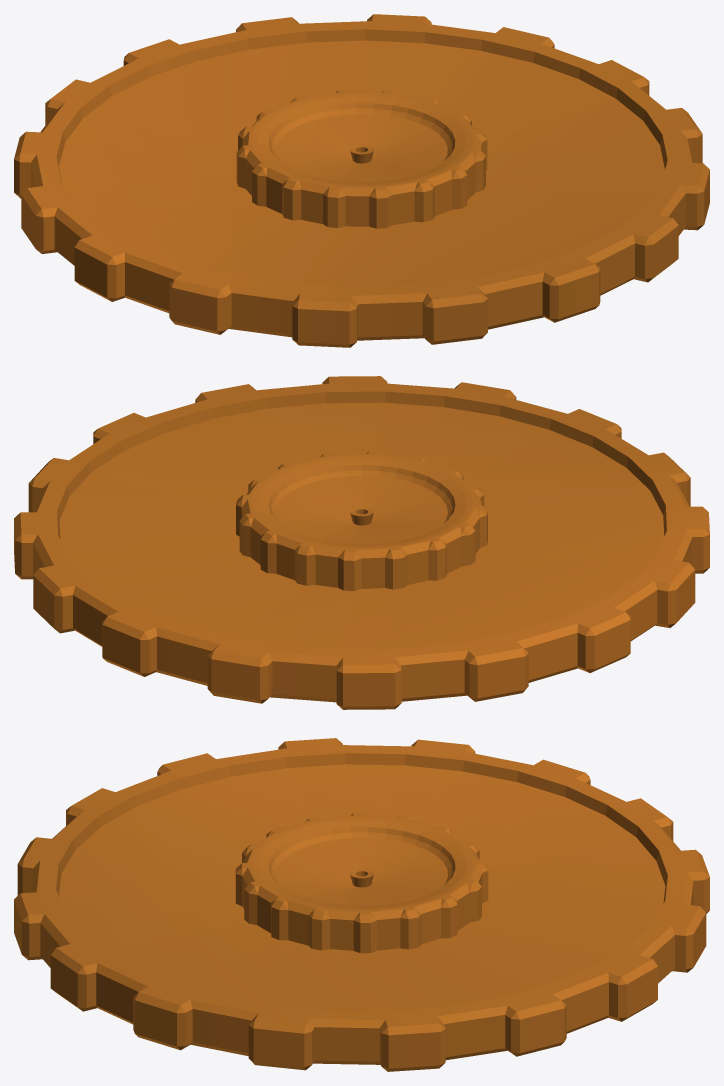
The model's file is EngrenagemDupla.fbx.
The picture shows the model from 3 angles, top to bottom: view 1: azimuth 30°, elevation 25°; view 2: azimuth 150°, elevation 25°; view 3: azimuth 270°, elevation 25°; orthographic projection.
Parts seen in each view (by area): view 1: EngrenagemDupla; view 2: EngrenagemDupla; view 3: EngrenagemDupla.
Part boxes in pixels (<box>): EngrenagemDupla: <box>14,14,709,347</box>; EngrenagemDupla: <box>14,376,709,709</box>; EngrenagemDupla: <box>14,738,709,1071</box>.
Bounding box in the file's own units: 326 × 32.97 × 326.
